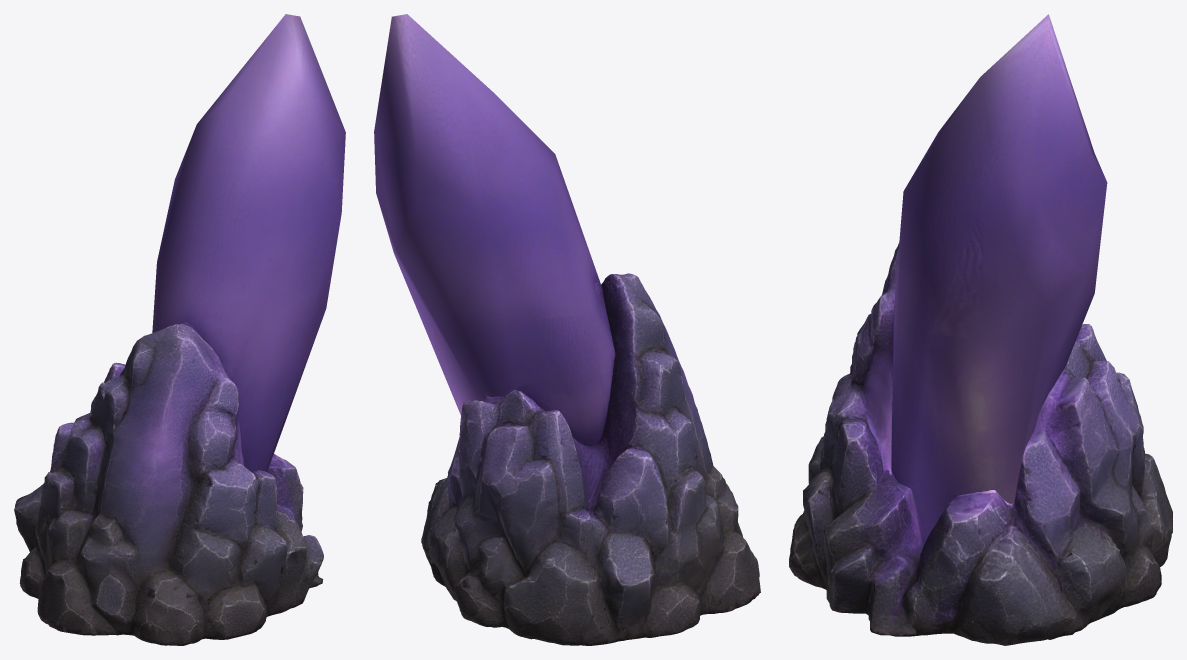
The model's file is crystalMonolith.glb.
3 views of the same model, side by side, from view 1: azimuth 30°, elevation 25°; view 2: azimuth 150°, elevation 25°; view 3: azimuth 270°, elevation 25° (orthographic). The views are drawn at different scales.
Parts seen in each view (by area): view 1: tripo_node_4daea437-367b-4a00-bee3-cd393fee88b8; view 2: tripo_node_4daea437-367b-4a00-bee3-cd393fee88b8; view 3: tripo_node_4daea437-367b-4a00-bee3-cd393fee88b8.
Boxes of the visible parts, x1,y1,x2,y2 form: tripo_node_4daea437-367b-4a00-bee3-cd393fee88b8: (14, 14, 345, 645); tripo_node_4daea437-367b-4a00-bee3-cd393fee88b8: (374, 14, 760, 645); tripo_node_4daea437-367b-4a00-bee3-cd393fee88b8: (789, 14, 1172, 645).
Bounding box in the file's own units: 0.6504 × 0.998 × 0.5371.
Materials: 1 (1 with a texture image).
